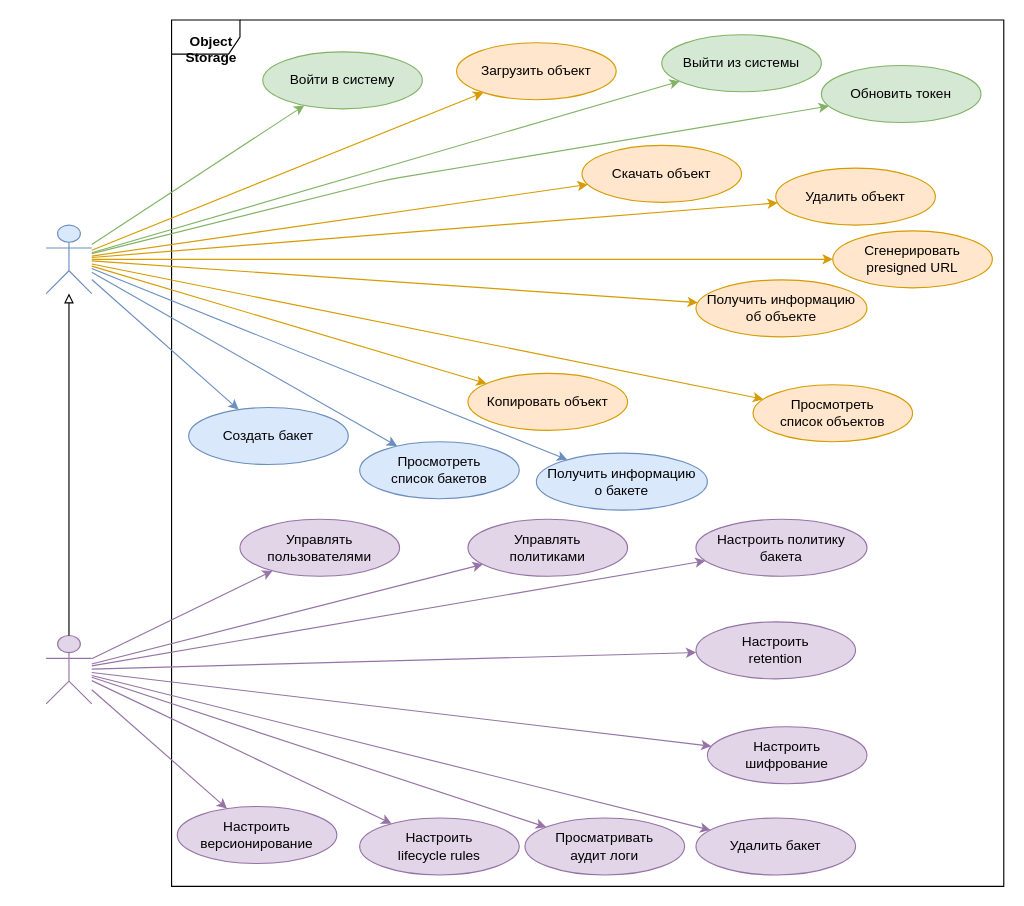
Image size: 1024x906. Some labels were removed from this diagram. The box of each missing label's shape, as (x1, y1, x2, y2) in pixels:
Администратор: (45, 634, 92, 704)
Пользователь: (45, 224, 92, 294)
